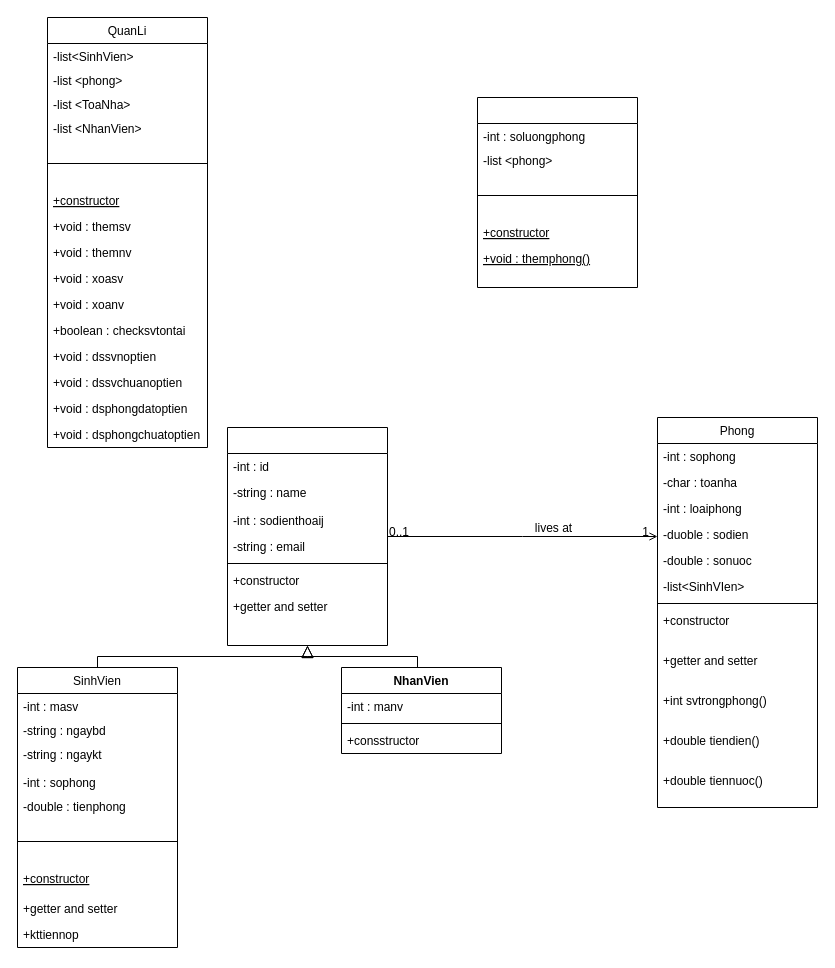
The diagram is 835 pixels wide and 968 high, and some of its shapes have lost their labels. Each missing label, with the box of its shape:
Nguoi: (226, 426, 388, 646)
ToaNha: (476, 96, 638, 288)
